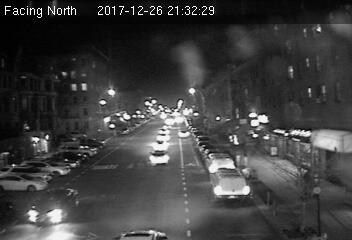car: (30, 185, 81, 226), (147, 149, 170, 165), (151, 138, 167, 148), (176, 130, 191, 139)
truck: (212, 169, 248, 200)
